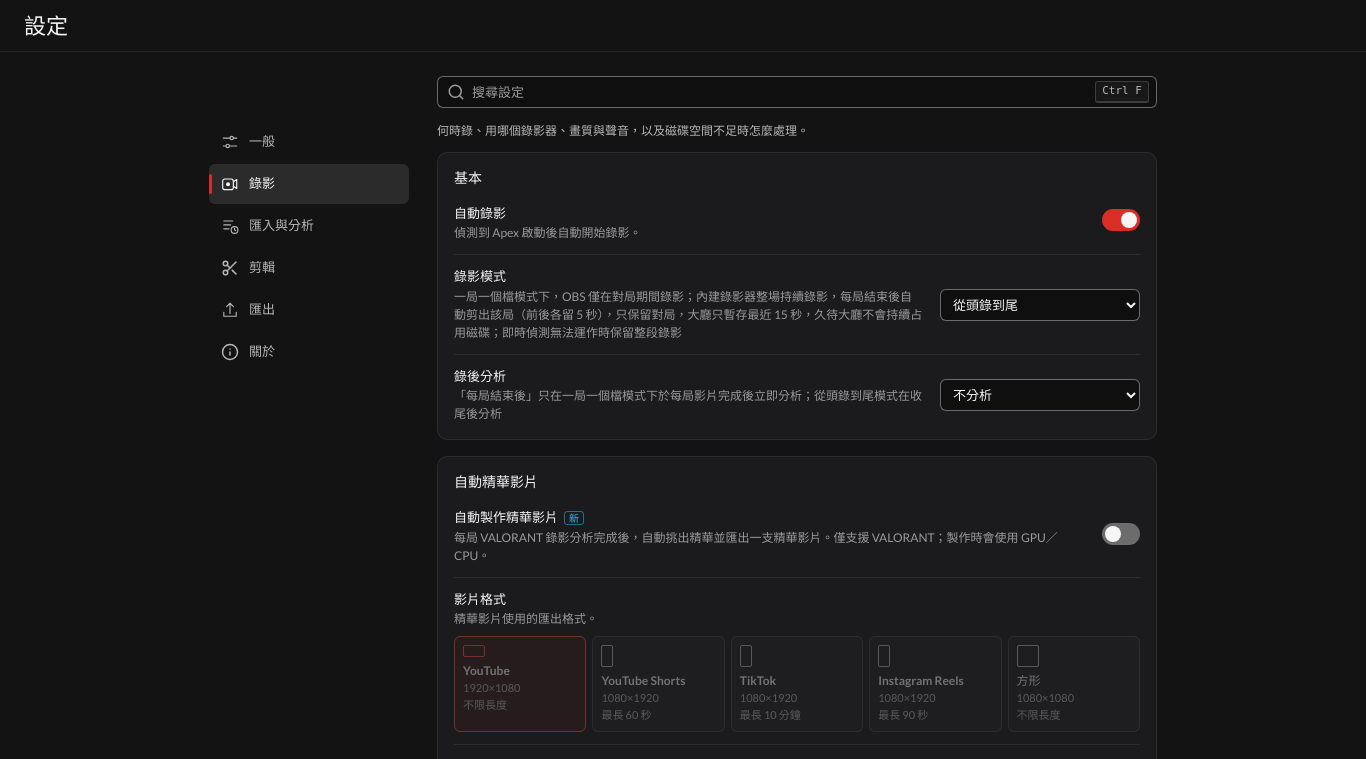
Scenario: Auto montage settings card › enabling while post-recording analysis is "none" asks first; confirm saves both
Click the switch labelled "自動製作精華影片": (1121,534) left=1102, top=523, right=1140, bottom=545
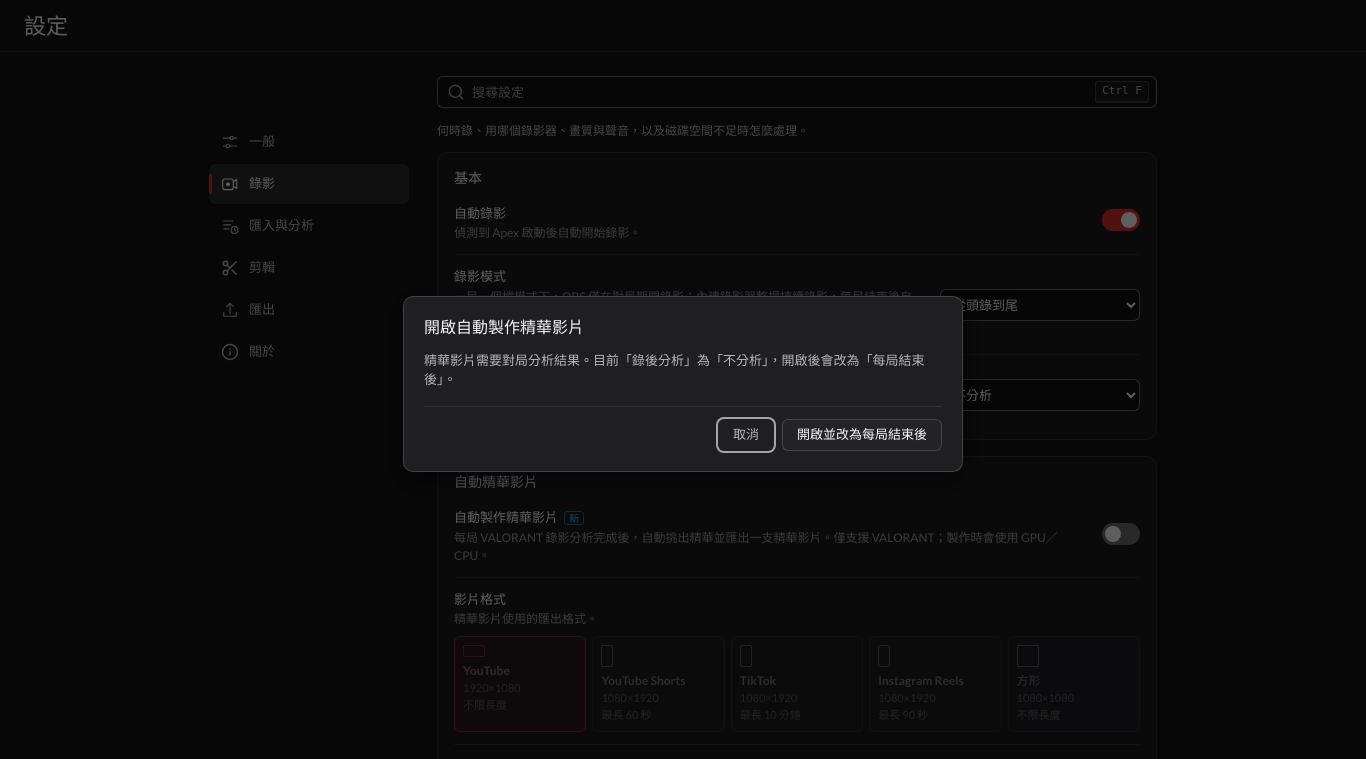
Result: the dialog is shown at left=403, top=296, right=963, bottom=472
Result: the heading "開啟自動製作精華影片" is shown at left=424, top=318, right=584, bottom=337
Result: the button "取消" is shown at left=718, top=419, right=774, bottom=451
Click the button with id "set-autoMontage-enabled-confirm-confirm": (862,435) left=782, top=419, right=942, bottom=451
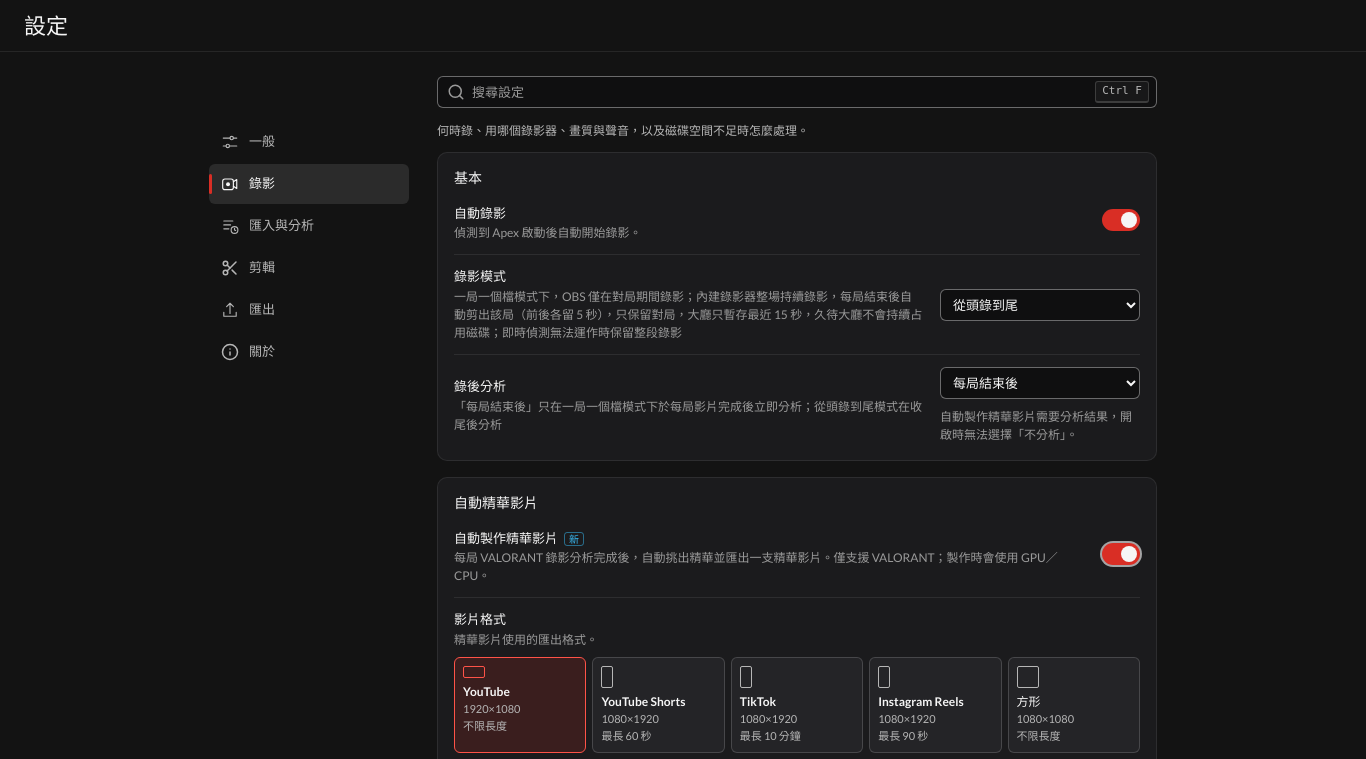
Result: the dialog is gone
